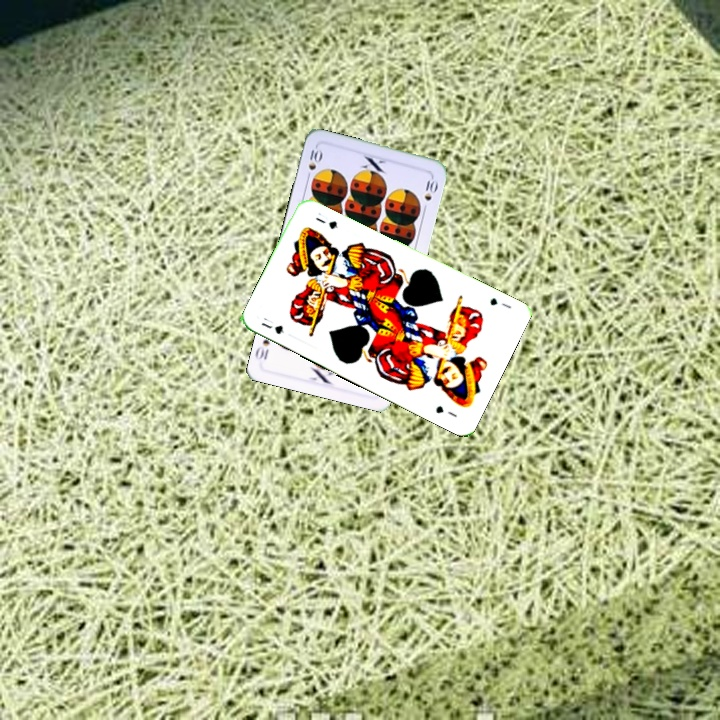GU: (257, 318, 287, 337), (486, 293, 514, 311)
S10: (303, 143, 325, 183)
